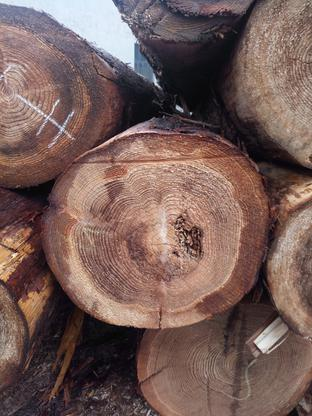mood: (42, 133, 272, 329)
